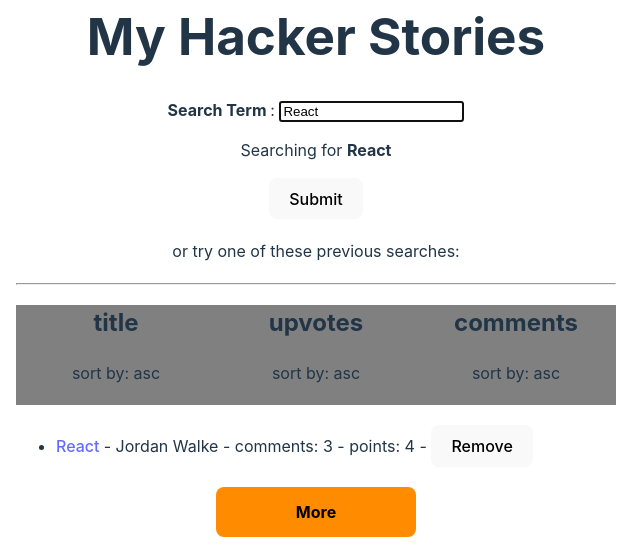
Scenario: App Component › searches for specific stories
The image size is (633, 554).
Expected: the text "Jordan Walke" is shown, [116,436,218,456]
Expected: the field showing "Javascript" is not shown
Replace the text in the field showing "React" with "Javascript" at (372, 112), box [279,101,464,122]
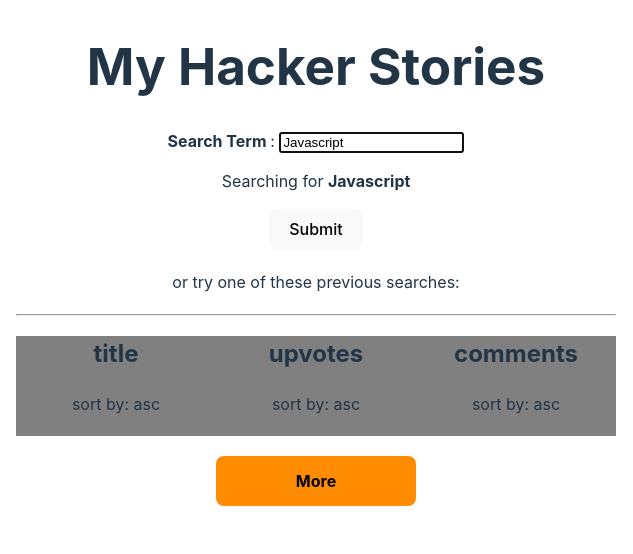
Expected: the text showing "React" is gone
Submit the form from the button "Submit", box [269,209,363,250]
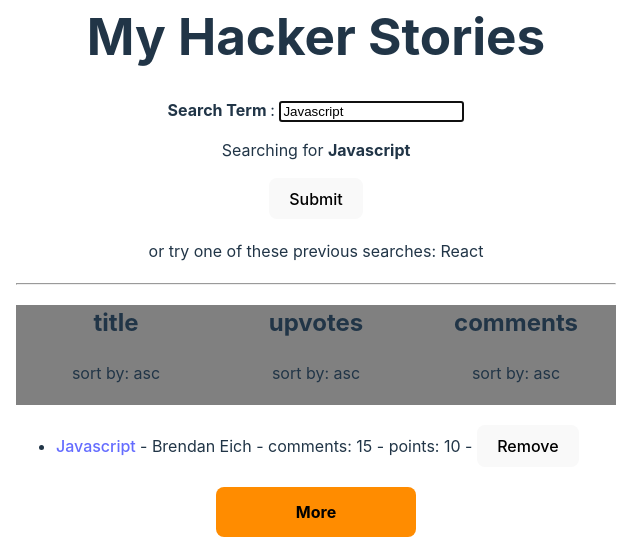
Expected: the text "Jordan Walke" is not shown
Expected: the text "Brendan Eich" is shown, [152,436,252,456]
